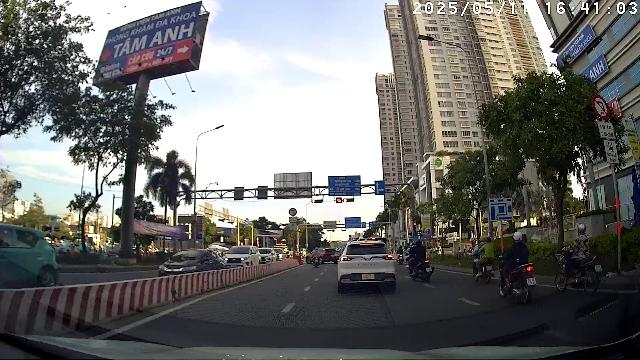103c-cam-oto-re-trai: (592, 94, 610, 120)
